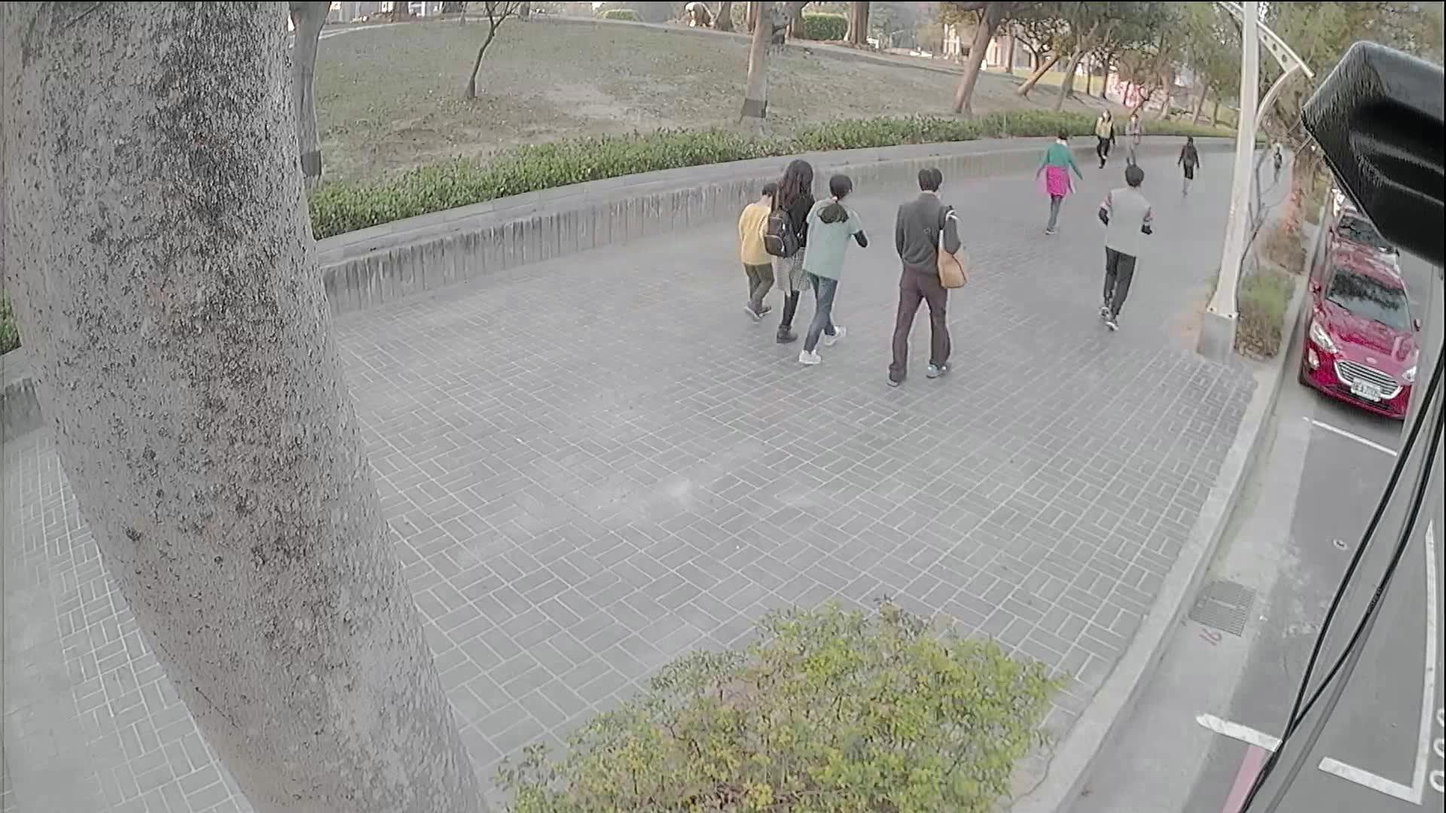person: (882, 162, 963, 385), (751, 162, 816, 335), (797, 171, 856, 358), (1088, 167, 1149, 335), (732, 178, 775, 324), (1033, 132, 1079, 239), (1121, 110, 1146, 172), (1093, 108, 1115, 166), (1177, 137, 1194, 196)
